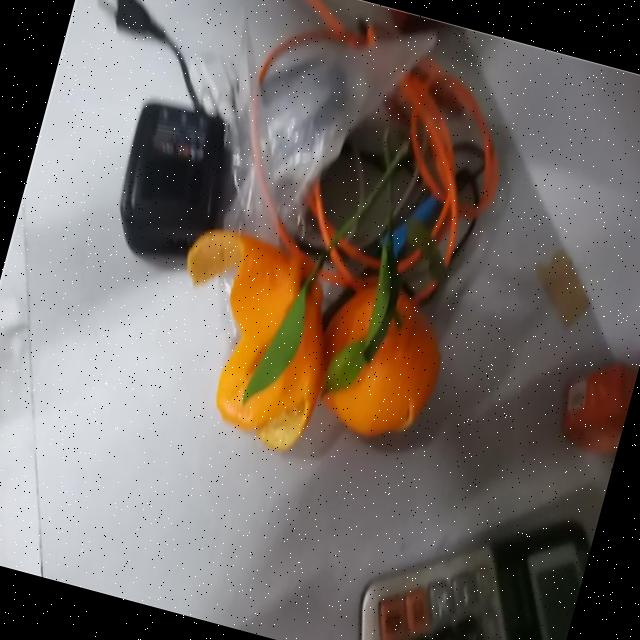orange-peel: (137, 215, 465, 493)
